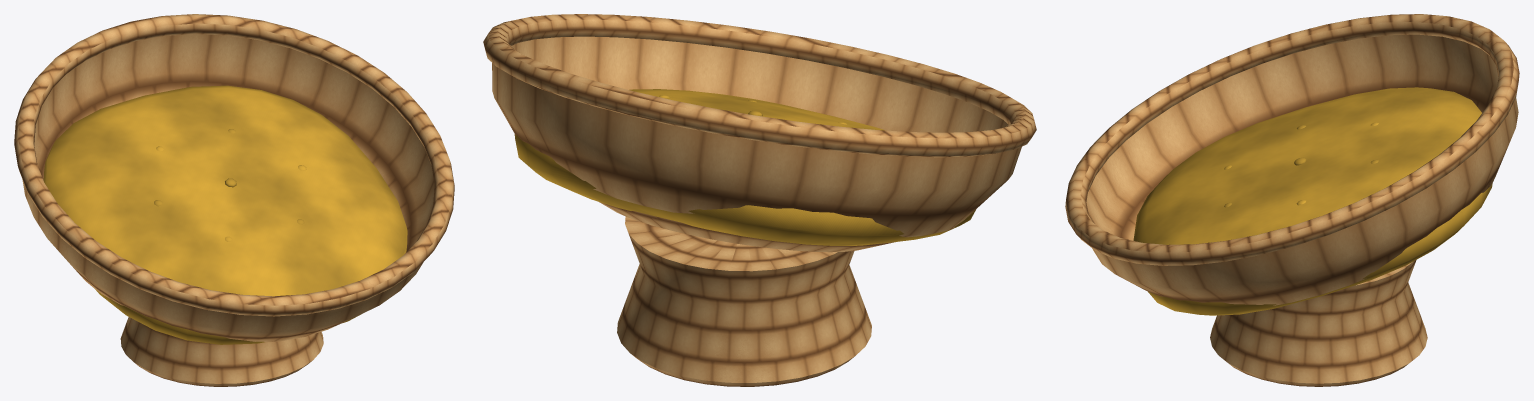
Rendered from papasan_chair.glb.
3 renders of one model, left to right at view 1: azimuth 30°, elevation 25°; view 2: azimuth 150°, elevation 25°; view 3: azimuth 270°, elevation 25°, orthographic. The views are drawn at different scales.
Visible parts, largest first — view 1: model; view 2: model; view 3: model.
Boxes of the visible parts, x1,y1,x2,y2 form: model: [14, 14, 454, 386]; model: [483, 14, 1036, 386]; model: [1065, 14, 1519, 386].
Bounding box in the file's own units: 1.4 × 0.8989 × 1.34.
2 materials, 2 textured.
